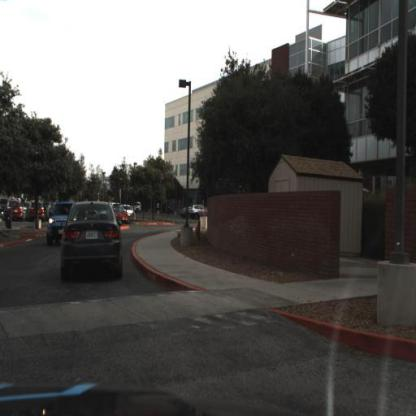car: (59, 197, 124, 287), (46, 200, 68, 247), (25, 198, 47, 226), (188, 200, 208, 221), (113, 202, 129, 228), (113, 205, 130, 226), (135, 198, 145, 218)
